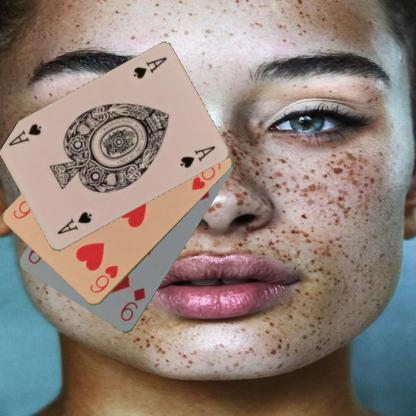6h: (86, 262, 121, 296)
9d: (118, 285, 147, 323)
As: (54, 209, 93, 236), (130, 54, 168, 80)
